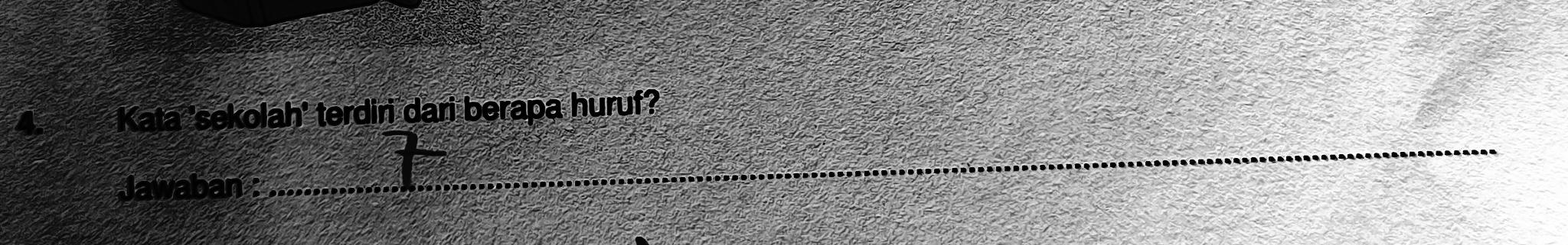jawaban: (372, 120, 447, 194)
